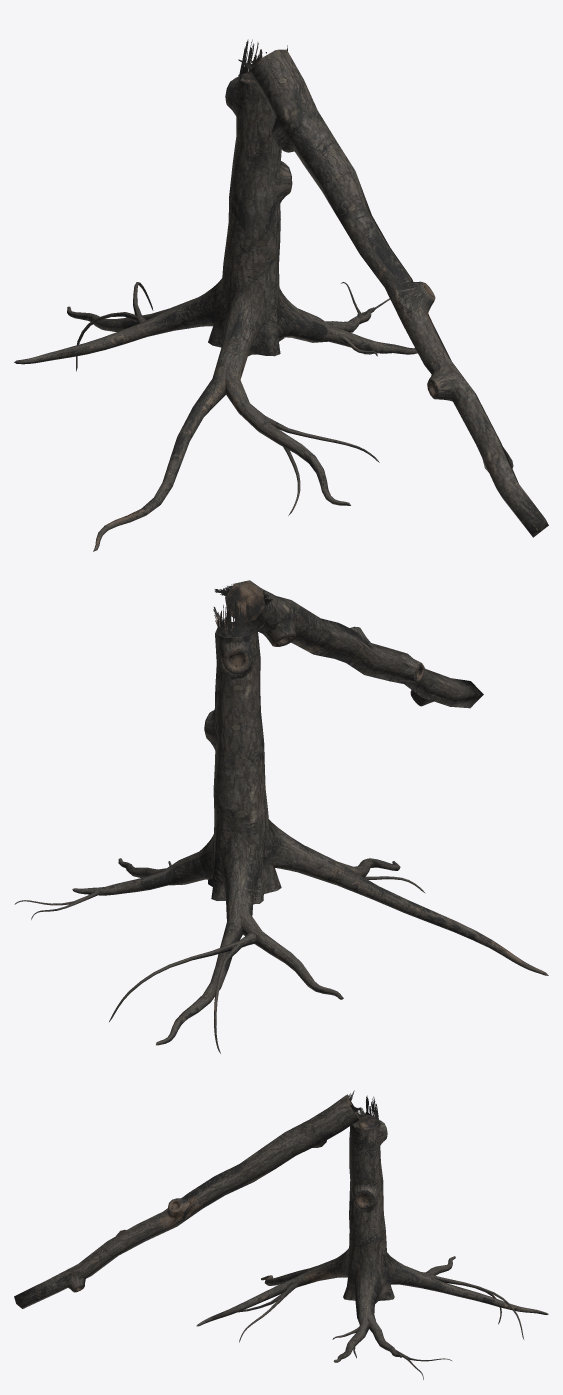
The model's file is SM_TreeBattlefield04.glb.
The picture shows the model from 3 angles, top to bottom: view 1: azimuth 30°, elevation 25°; view 2: azimuth 150°, elevation 25°; view 3: azimuth 270°, elevation 25°; orthographic projection. The views are drawn at different scales.
Visible parts, largest first — view 1: SM_TreeBattlefield04; view 2: SM_TreeBattlefield04; view 3: SM_TreeBattlefield04.
Part boxes in pixels (<box>): SM_TreeBattlefield04: <box>14,39,548,551</box>; SM_TreeBattlefield04: <box>14,580,548,1053</box>; SM_TreeBattlefield04: <box>14,1090,548,1379</box>.
Bounding box in the file's own units: 3.35 × 3.06 × 5.41.
1 material, 1 textured.
